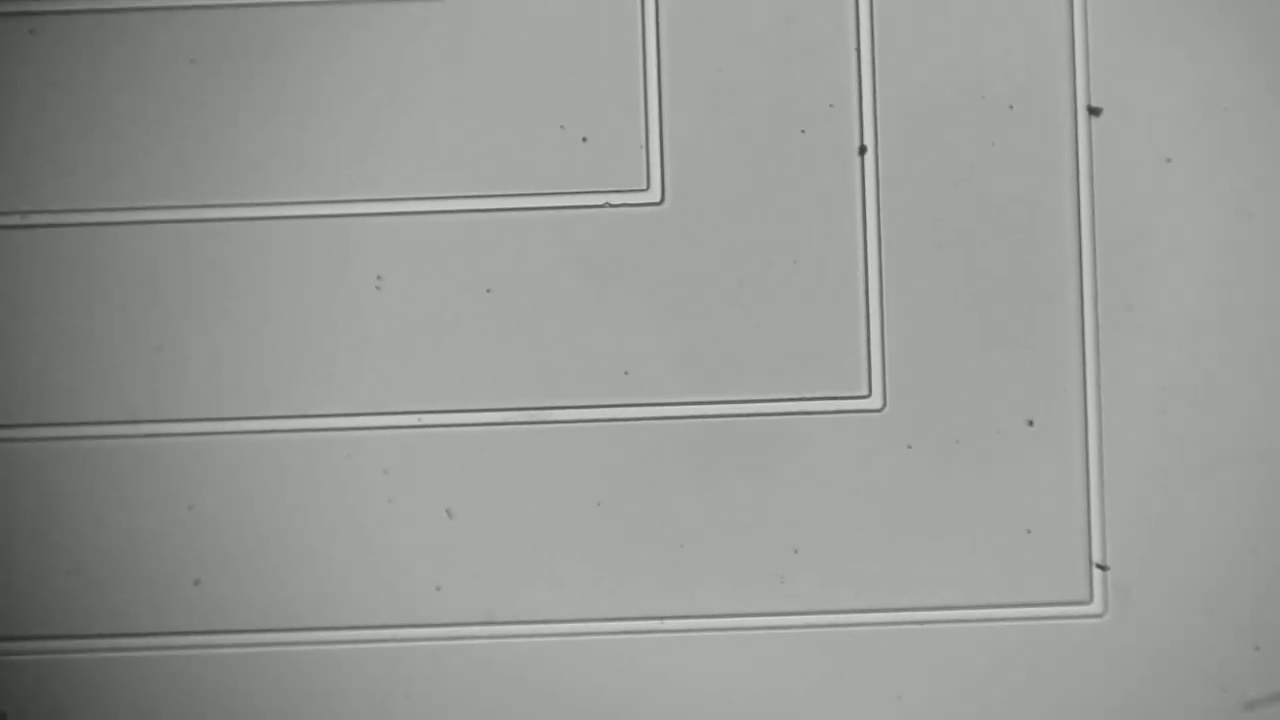edge_bite: (595, 186, 615, 213)
stains_enbedded: (848, 132, 883, 167), (1086, 556, 1119, 586)
